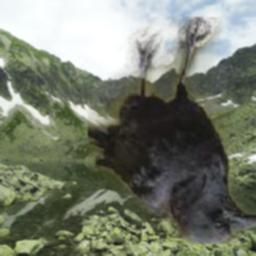Crow: (88, 17, 256, 244)
